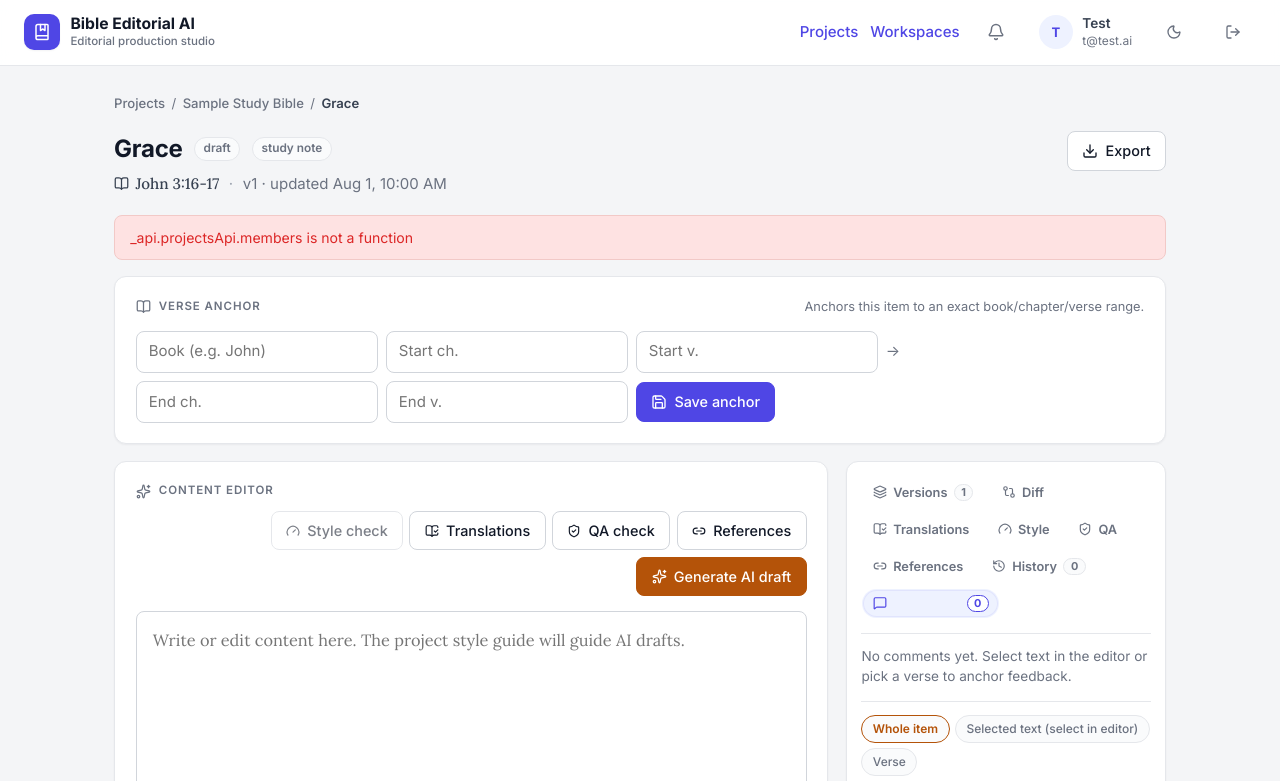
Test: Editor translation comparison sidebar › inserts a quote from a translation at the cursor
Expected: the heading "Grace" is shown, [114,131,183,167]
Click the button "Translations": (478, 531) [410,511,546,550]
(page scrolled)
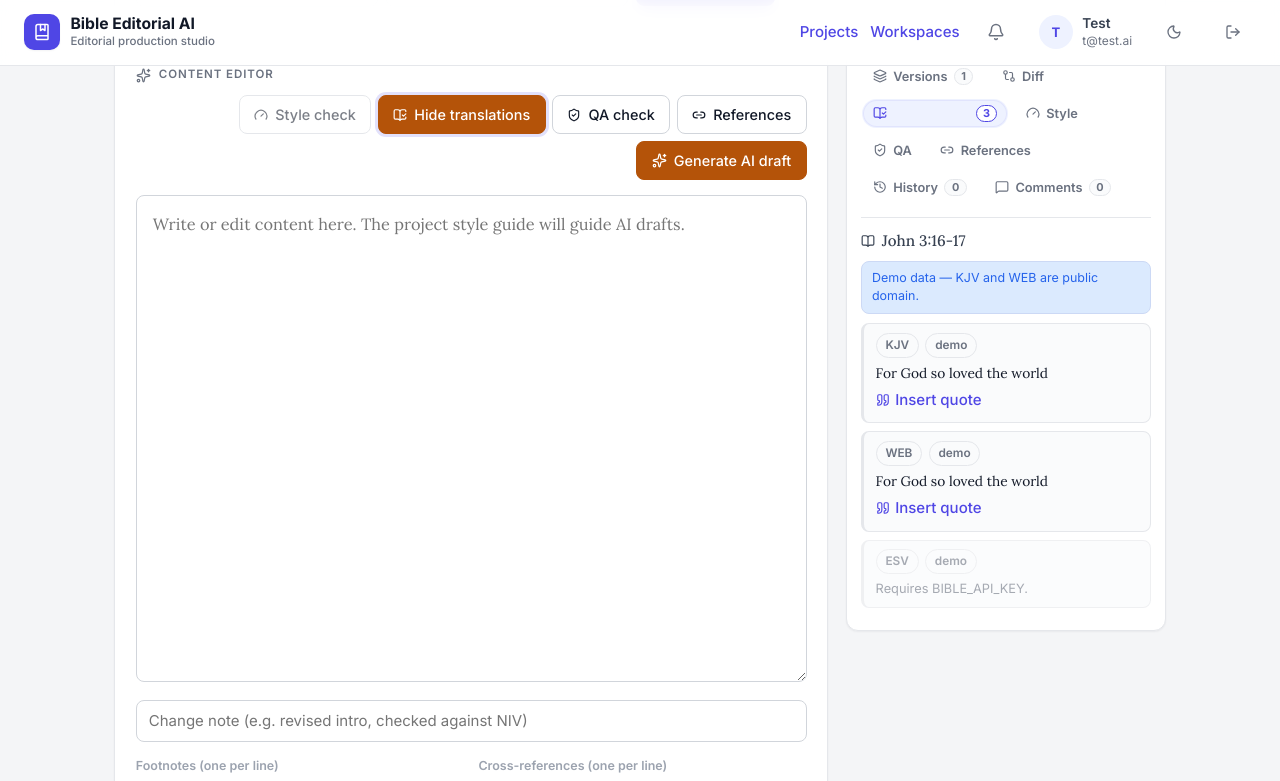
Result: the text "John 3:16-17" is shown at [861,230,966,253]
Click the 1st button "Insert quote": (929, 400) [876,389,982,411]
(page scrolled)
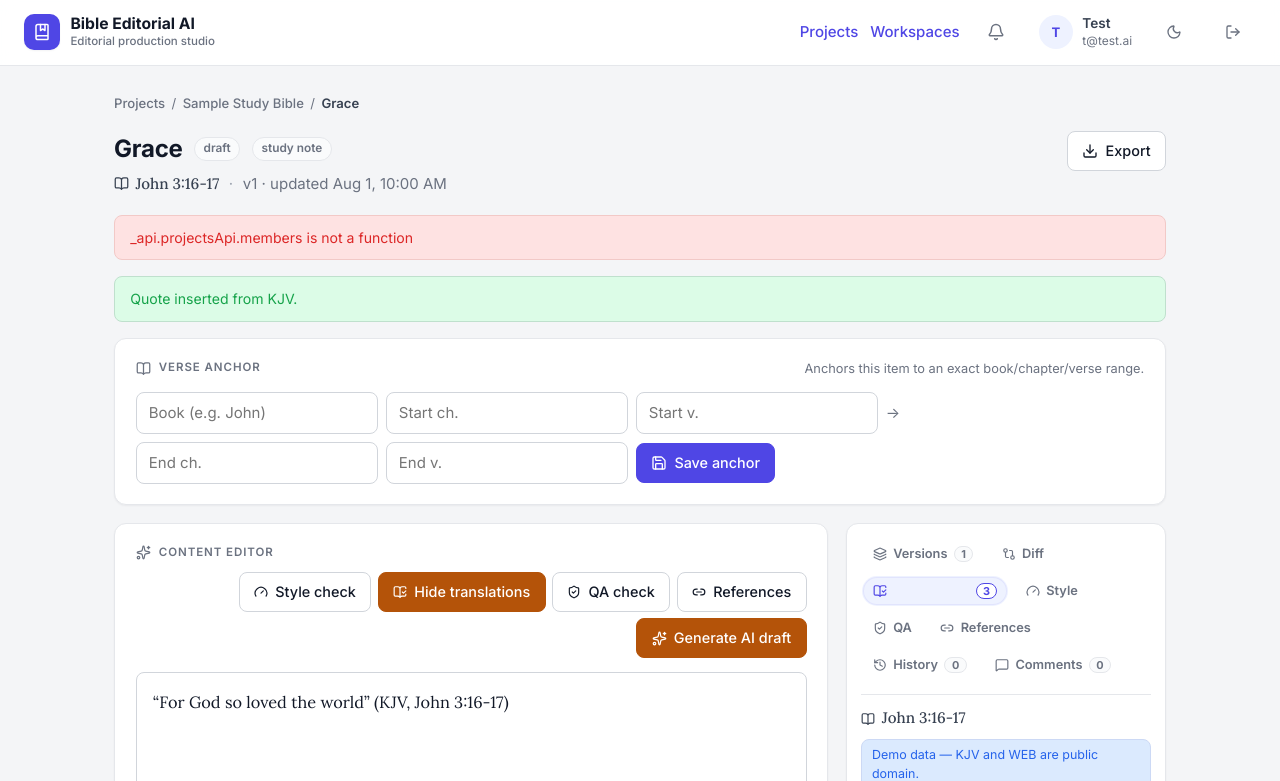
Result: the text "Quote inserted from KJV." is shown at [114,276,1166,322]
